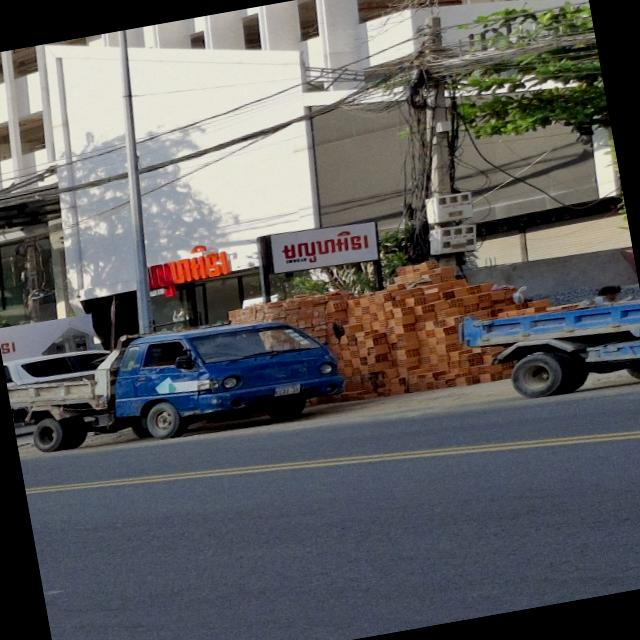Yolov11kh: (257, 218, 396, 280)
